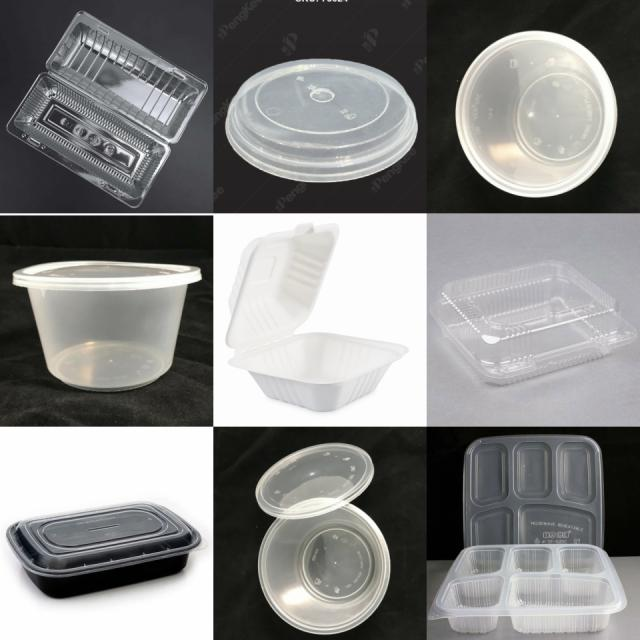Single-Use-Plastic: (6, 11, 208, 208), (226, 224, 408, 411), (456, 31, 618, 197), (430, 261, 636, 384), (12, 261, 201, 391), (225, 59, 418, 182), (8, 502, 201, 598), (259, 498, 390, 634), (429, 545, 625, 632), (464, 435, 602, 547), (255, 442, 374, 519)
